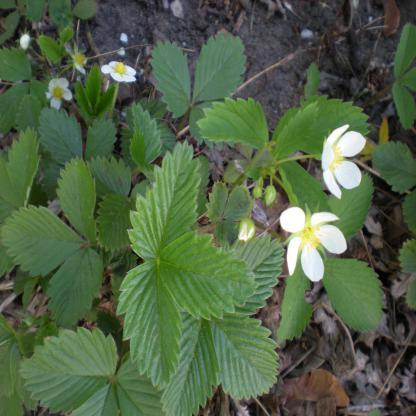Strawberry leaf: (125, 143, 203, 265), (160, 235, 265, 322), (113, 262, 184, 382)
